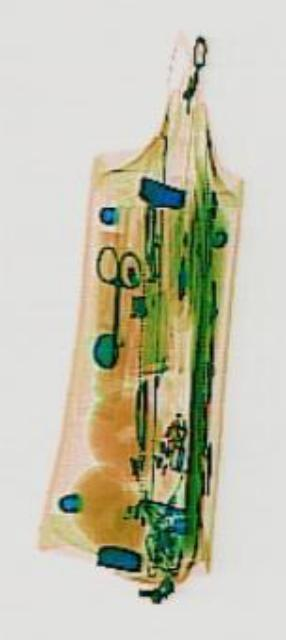Scissors: (87, 242, 138, 368)
